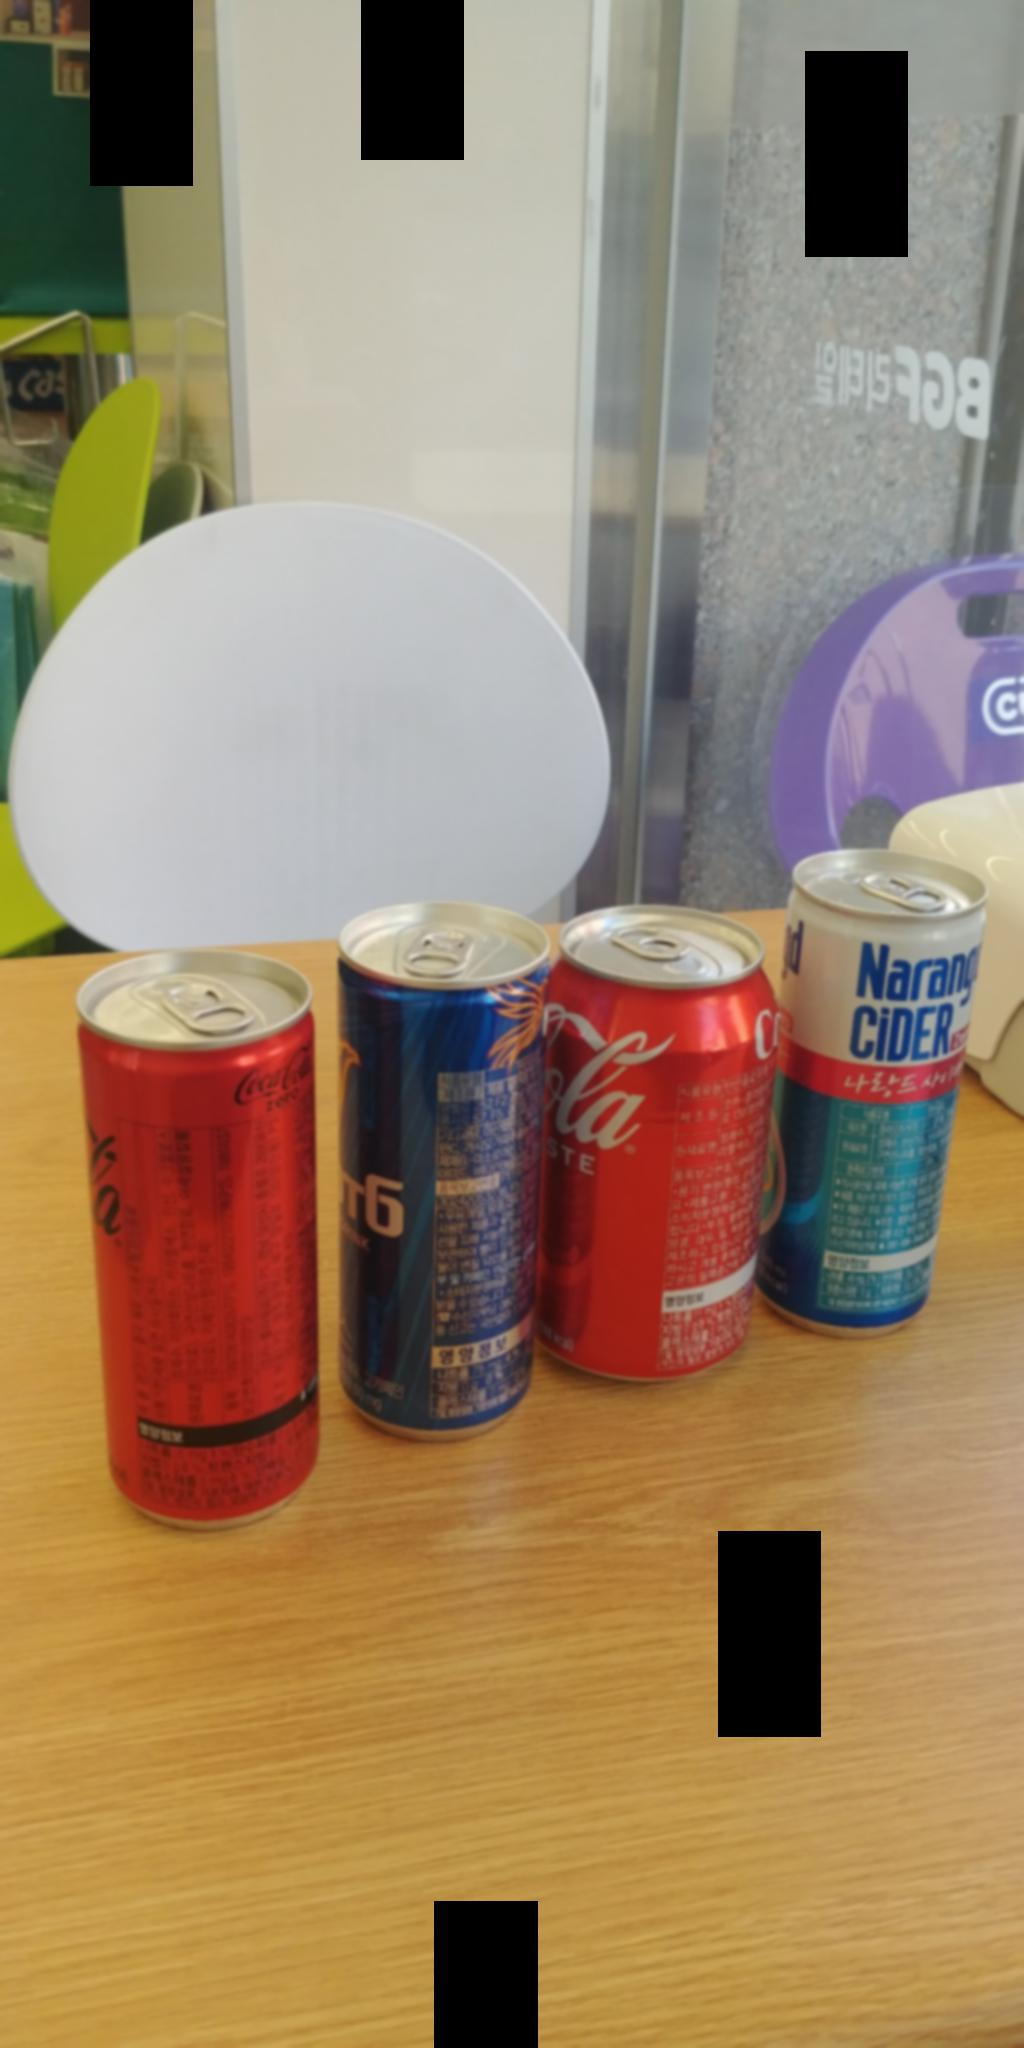cocacola: (549, 930, 768, 1420)
hotsix_org: (341, 900, 556, 1455)
narangdcider: (794, 827, 982, 1343)
